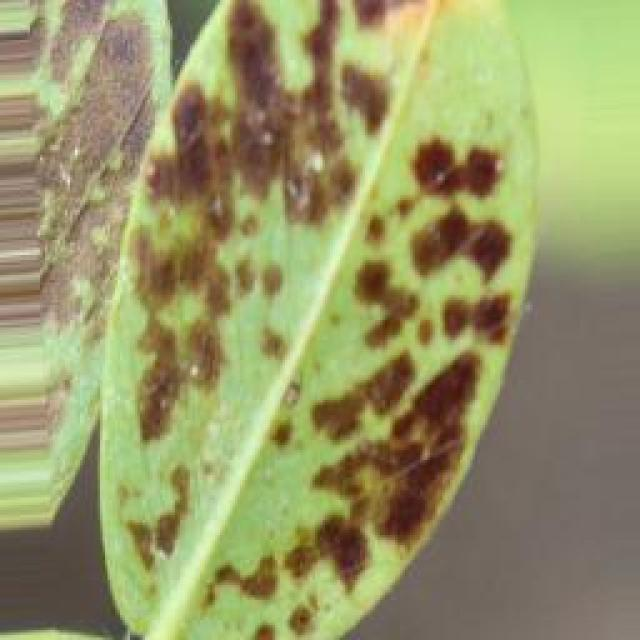Whitefly: (25, 0, 513, 620)
